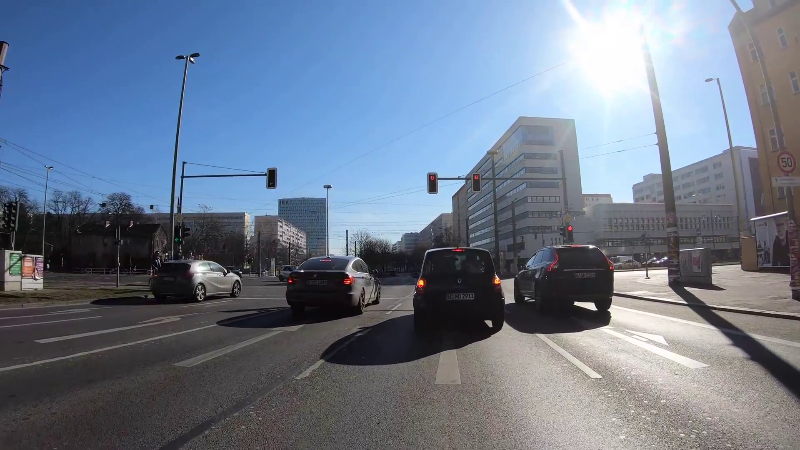Plate: (443, 290, 477, 301), (571, 270, 600, 279), (305, 277, 331, 287), (159, 276, 179, 283)
